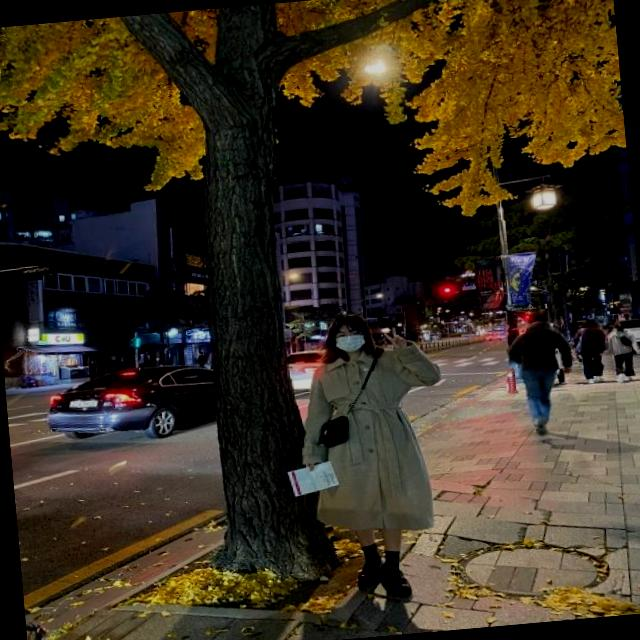coat: (296, 342, 452, 542)
